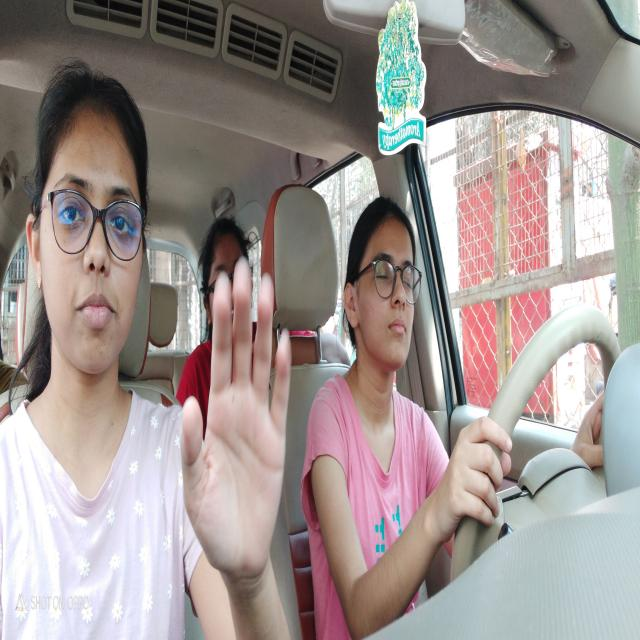drowsy: (346, 216, 426, 368)
person: (44, 90, 145, 377), (204, 216, 250, 272)
